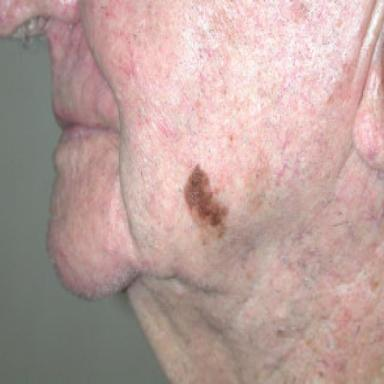Melanoma: (184, 164, 228, 244)
